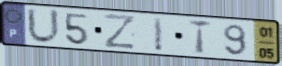5: (63, 12, 91, 46)
9: (221, 23, 251, 57)
I: (152, 15, 165, 53)
T: (188, 18, 214, 56)
U: (25, 5, 63, 46)
Z: (103, 12, 137, 51)
